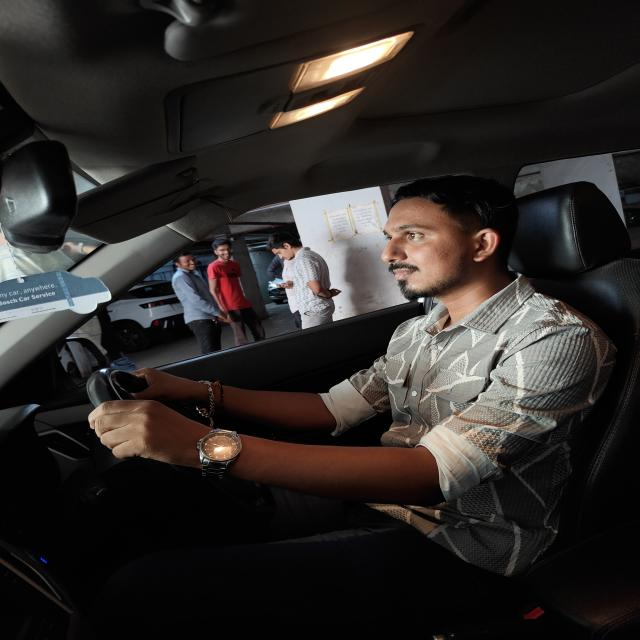no-seatbelt: (356, 281, 640, 590)
